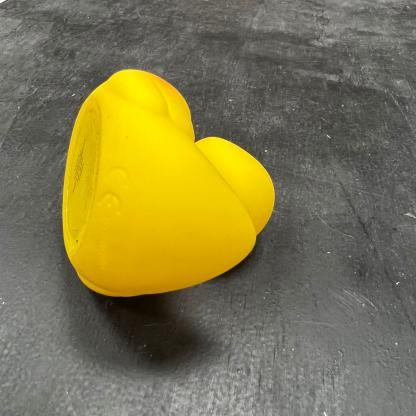duck: (54, 61, 279, 302)
